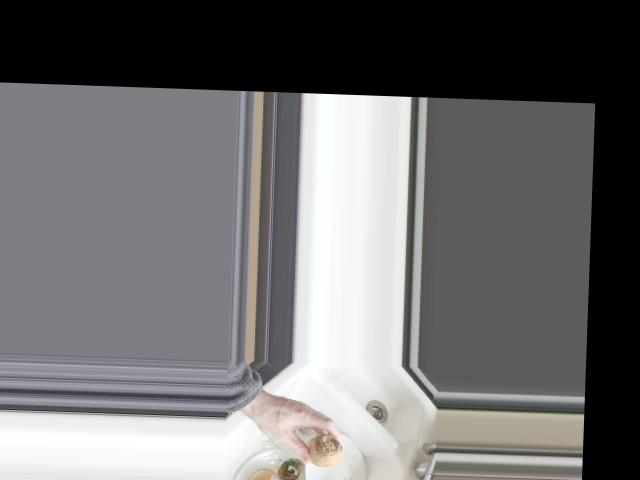sweet_potato: (298, 431, 345, 469)
